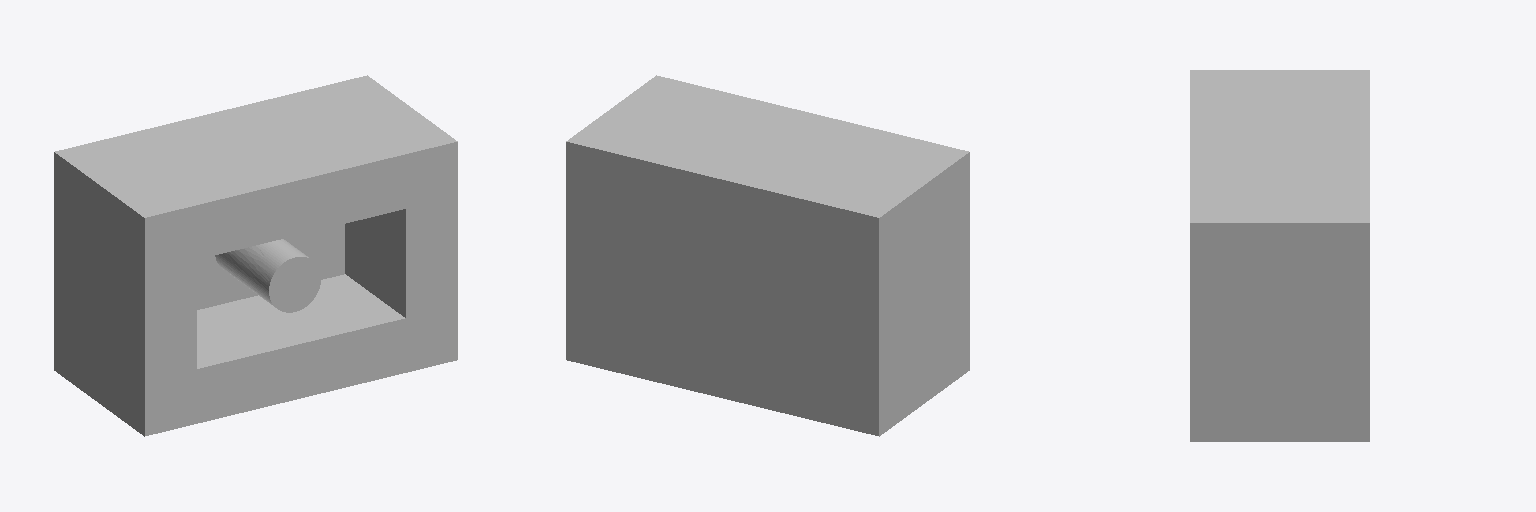
Rendered from tank43.obj.
3 renders of one model, left to right at view 1: azimuth 30°, elevation 25°; view 2: azimuth 150°, elevation 25°; view 3: azimuth 270°, elevation 25°, orthographic.
Size of the model in its own units: 3 by 2 by 1.5.